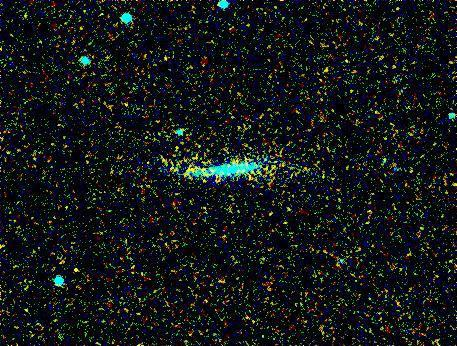star: (61, 256, 91, 286)
